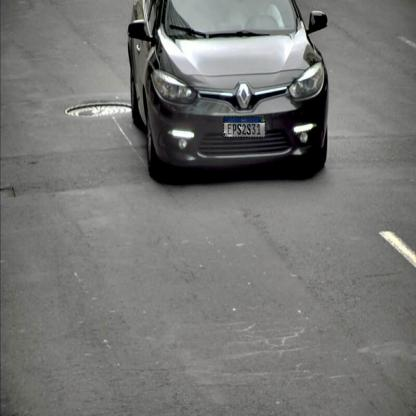PlacaM: (223, 116, 266, 138)
